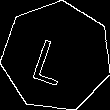L_N: (33, 28, 79, 85)
